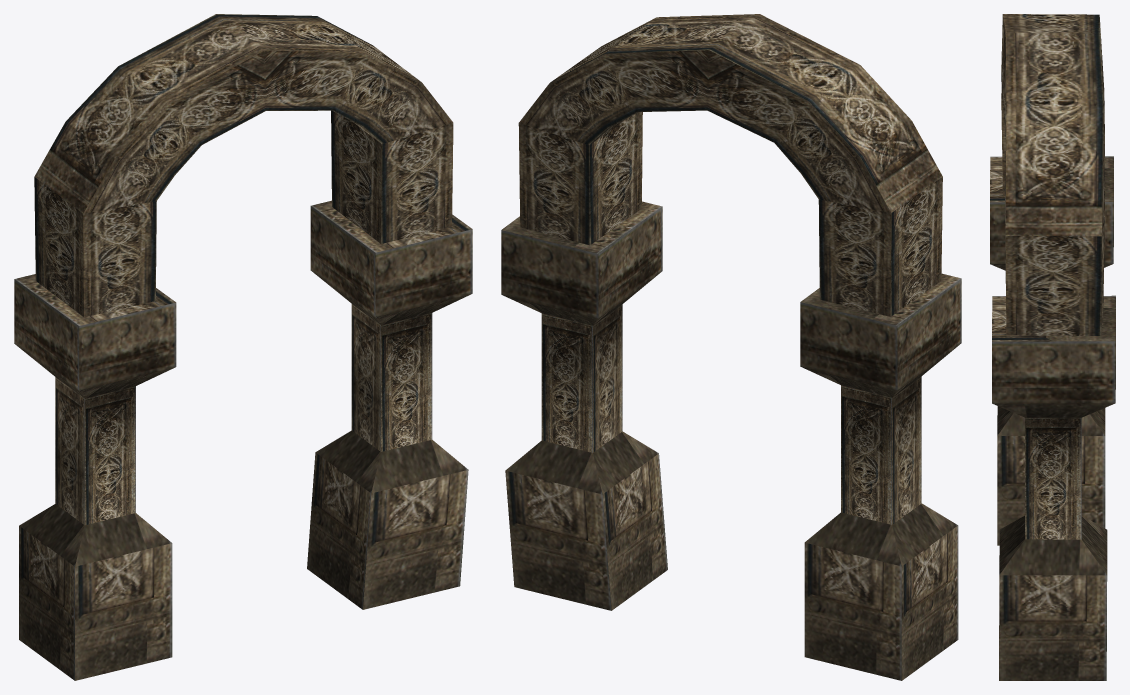
File: gate_02.FBX
3 views of the same model, side by side, from view 1: azimuth 30°, elevation 25°; view 2: azimuth 150°, elevation 25°; view 3: azimuth 270°, elevation 25° (orthographic). The views are drawn at different scales.
Parts seen in each view (by area): view 1: gate_02; view 2: gate_02; view 3: gate_02.
Part boxes in pixels (x1=…): gate_02: x1=14, y1=14, x2=472, y2=680; gate_02: x1=501, y1=14, x2=961, y2=680; gate_02: x1=990, y1=14, x2=1115, y2=680.
Bounding box in the file's own units: 3.92 × 5.5 × 1.13.
